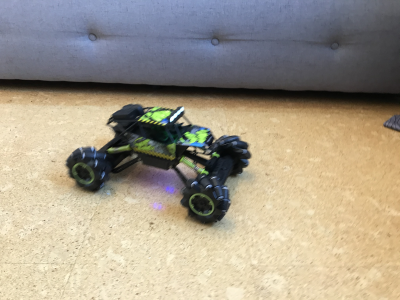remote control car: (61, 99, 253, 226)
